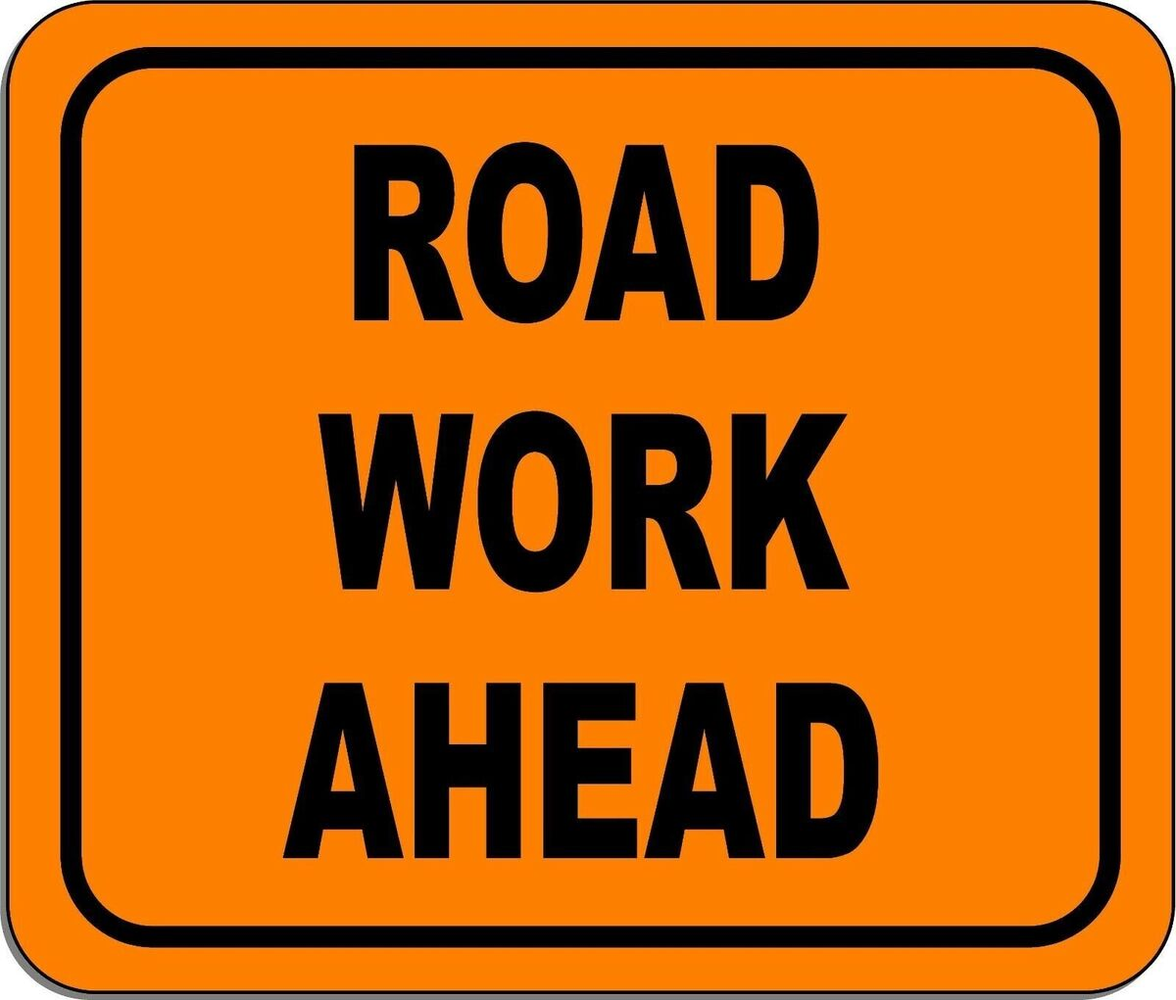Road_workahead: (5, 9, 1171, 996)
